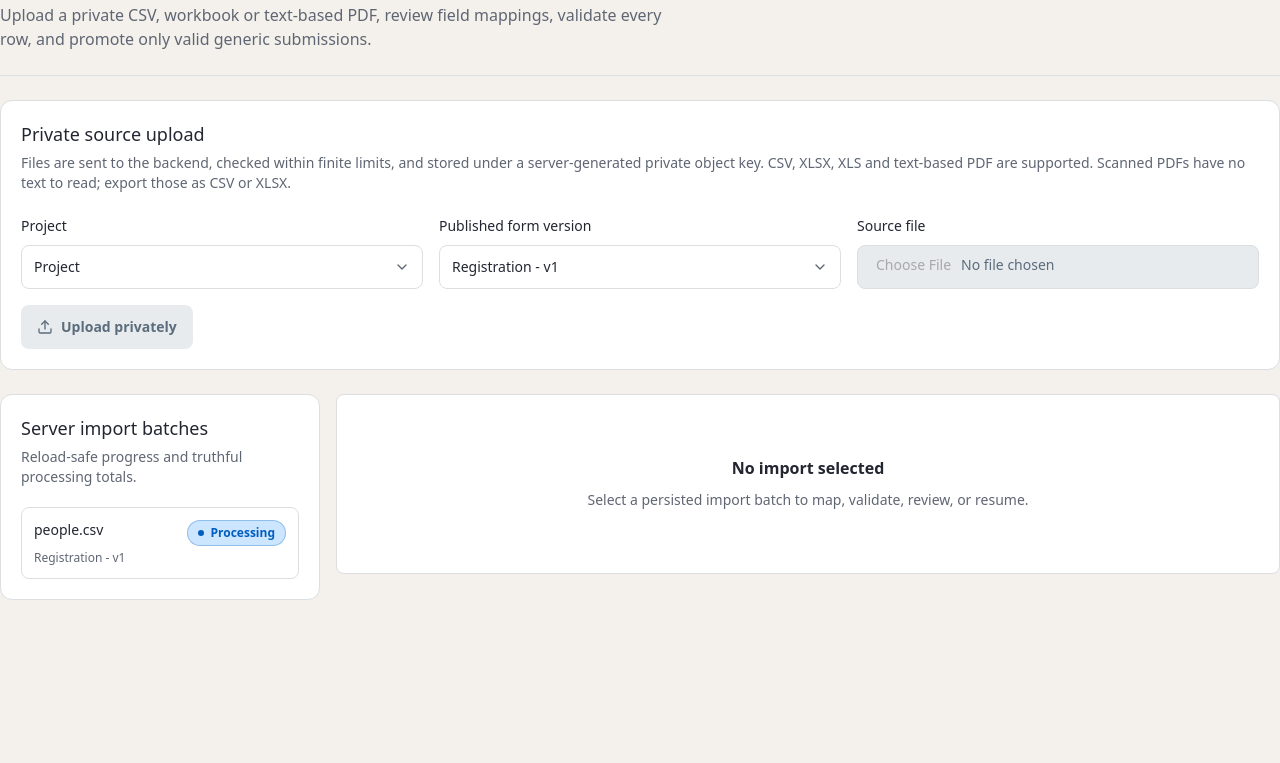
Test case: import workspace AUTO_SMART_V2 suggestions › locks confirmation once processing has frozen the mapping
Click the text "people.csv" at [69, 530], box [34, 520, 103, 540]
(page scrolled)
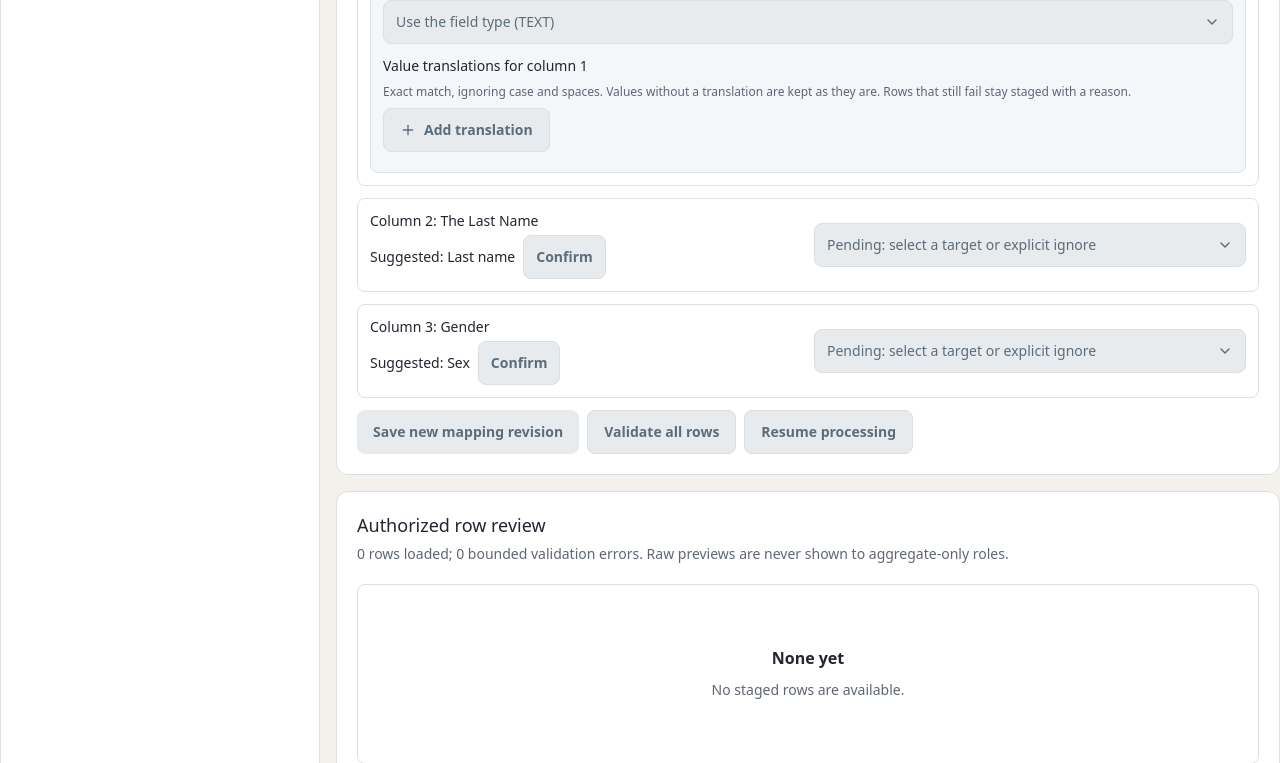
Expected: the button "Confirm" below "The Last Name" is disabled, [523, 235, 606, 279]
Expected: the button "Confirm" next to "Sex" is disabled, [478, 341, 560, 385]
